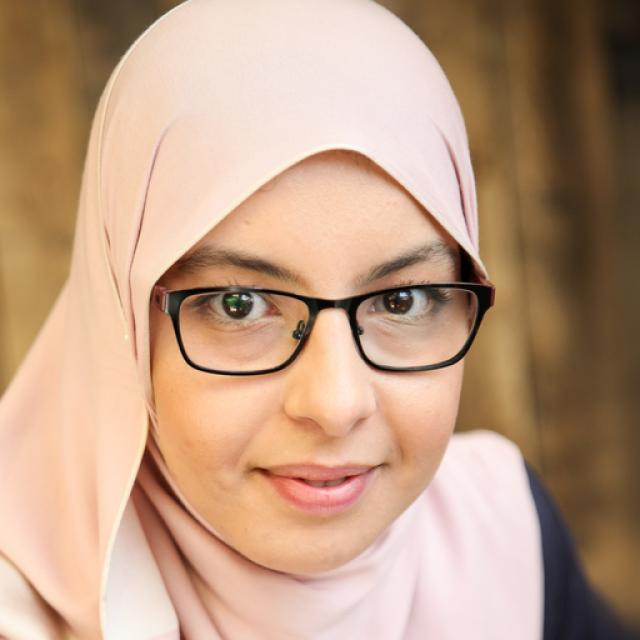content: (154, 135, 468, 574)
